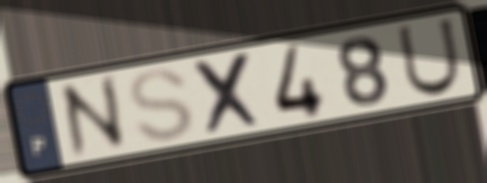4: (271, 40, 328, 122)
8: (335, 35, 392, 107)
N: (54, 71, 133, 164)
S: (126, 66, 198, 146)
U: (394, 15, 464, 99)
X: (189, 48, 267, 140)
